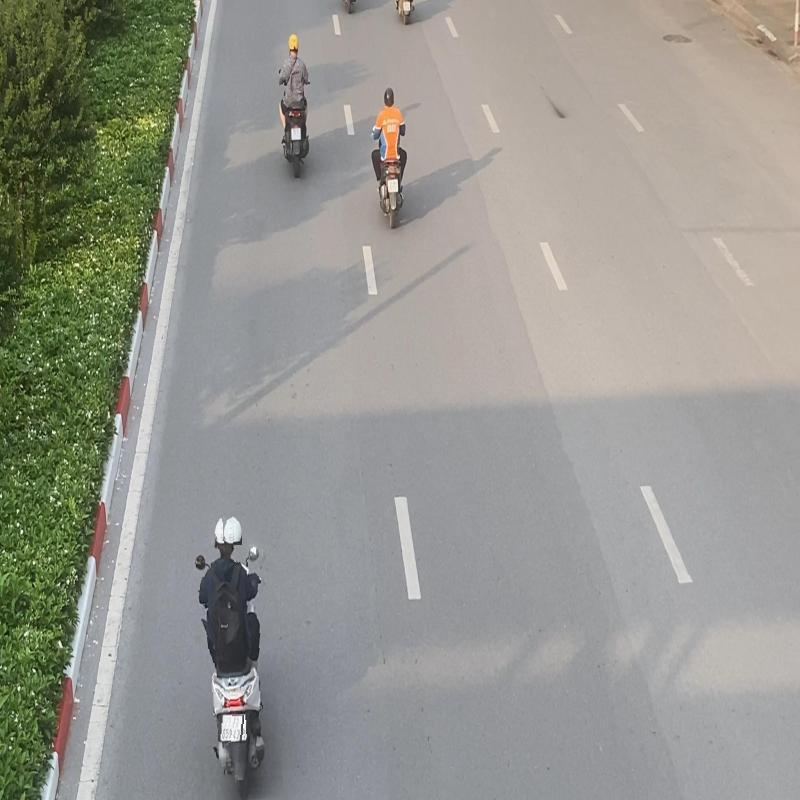helmet: (222, 516, 243, 545)
licenseplate: (218, 714, 244, 743)
motorcyclist: (191, 509, 279, 800)
